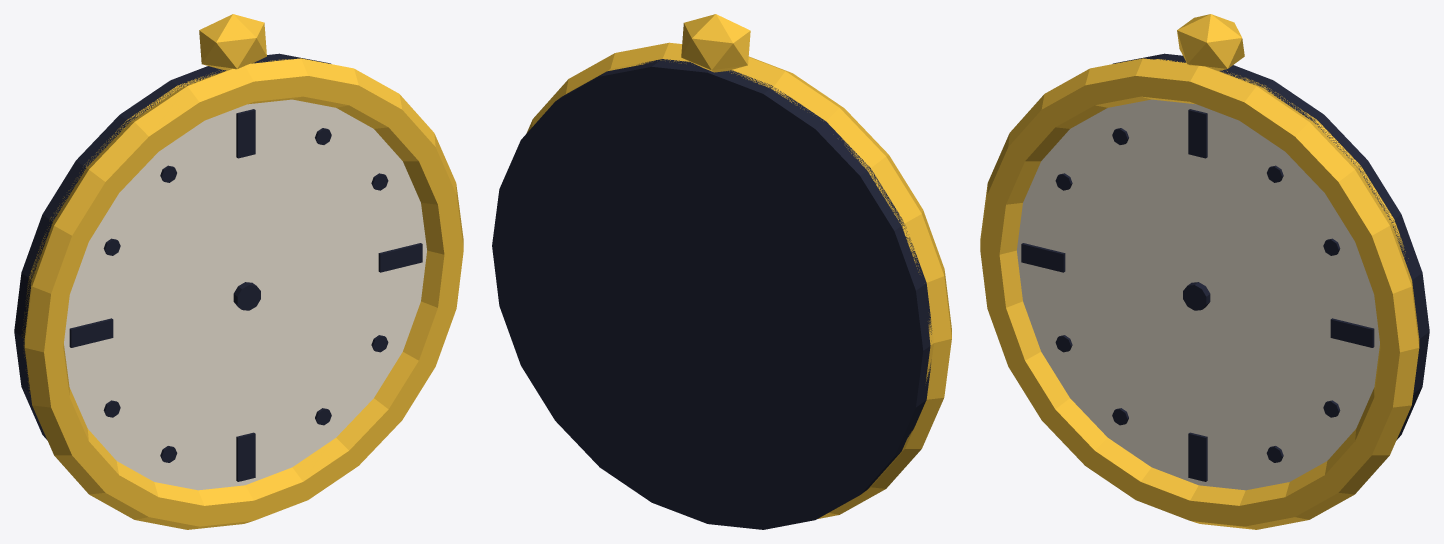
File: sm_env_depot_wall_clock.glb
3 views of the same model, side by side, from view 1: azimuth 30°, elevation 25°; view 2: azimuth 150°, elevation 25°; view 3: azimuth 330°, elevation 25° (orthographic). The views are drawn at different scales.
Visible parts, largest first — view 1: Face, Bezel, BackPlate, Bell, TickBig, TickBig.001, TickBig.002, TickBig.003, Body, Spindle; view 2: BackPlate, Bezel, Bell, Body; view 3: Face, Bezel, BackPlate, Bell, Body, TickBig, TickBig.002, TickBig.003, TickBig.001, Spindle.
Boxes of the visible parts, x1,y1,x2,y2 form: Face: [64, 99, 426, 490]; Bezel: [24, 58, 463, 529]; BackPlate: [14, 53, 330, 440]; Bell: [199, 14, 266, 70]; TickBig: [236, 109, 255, 158]; TickBig.001: [378, 243, 422, 272]; TickBig.002: [236, 432, 255, 481]; TickBig.003: [69, 318, 113, 347]; Body: [22, 59, 289, 392]; Spindle: [233, 282, 260, 310]; BackPlate: [492, 59, 932, 529]; Bezel: [526, 42, 951, 518]; Bell: [681, 14, 750, 72]; Body: [563, 59, 933, 488]; Face: [1017, 99, 1379, 490]; Bezel: [980, 58, 1419, 529]; BackPlate: [1113, 53, 1429, 440]; Bell: [1177, 14, 1244, 70]; Body: [1154, 59, 1408, 258]; TickBig: [1188, 109, 1207, 158]; TickBig.002: [1188, 432, 1207, 481]; TickBig.003: [1021, 243, 1065, 272]; TickBig.001: [1330, 318, 1374, 347]; Spindle: [1183, 282, 1210, 310].
Bounding box in the file's own units: 1.25 × 1.37 × 0.1707.
